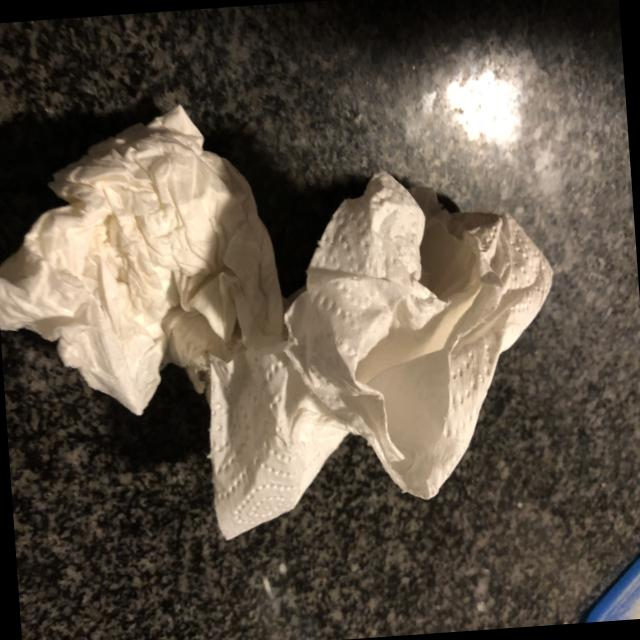organic waste: (192, 148, 576, 552), (0, 96, 290, 422)
